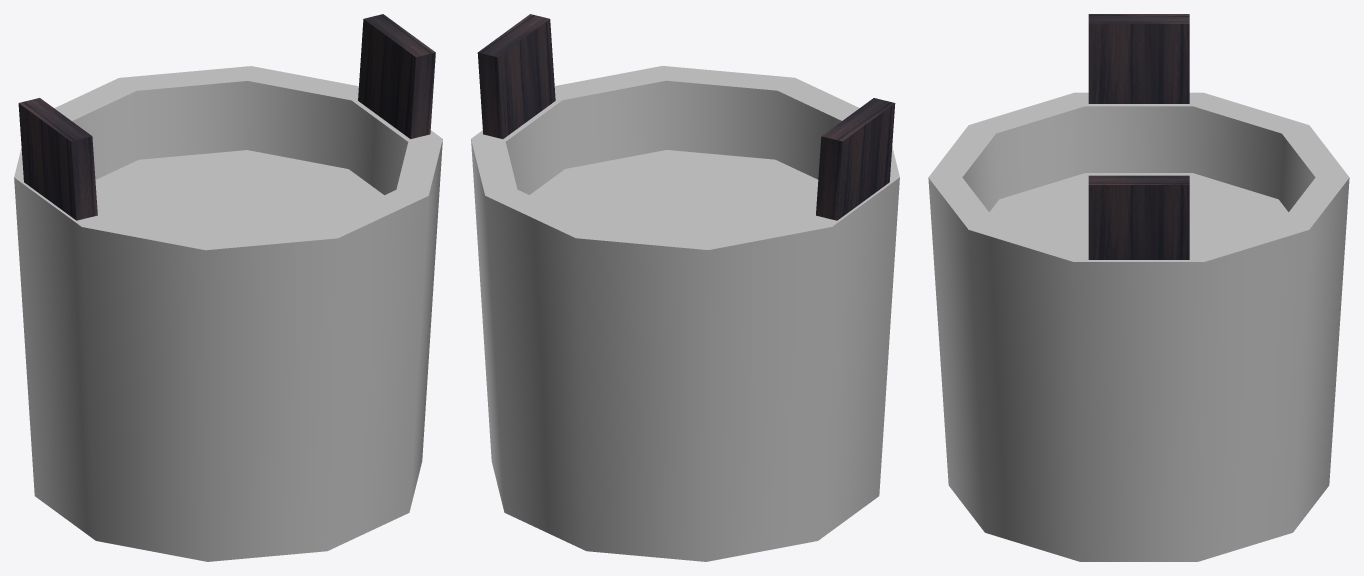
Rendered from Bucket_D.fbx.
The picture shows the model from 3 angles, left to right: view 1: azimuth 30°, elevation 25°; view 2: azimuth 150°, elevation 25°; view 3: azimuth 270°, elevation 25°; orthographic projection. The views are drawn at different scales.
Visible parts, largest first — view 1: Bucket_D; view 2: Bucket_D; view 3: Bucket_D.
Boxes of the visible parts, x1,y1,x2,y2 form: Bucket_D: [14, 14, 442, 561]; Bucket_D: [471, 14, 899, 561]; Bucket_D: [928, 14, 1349, 561].
Size of the model in its own units: 0.152 by 0.1597 by 0.1582.
